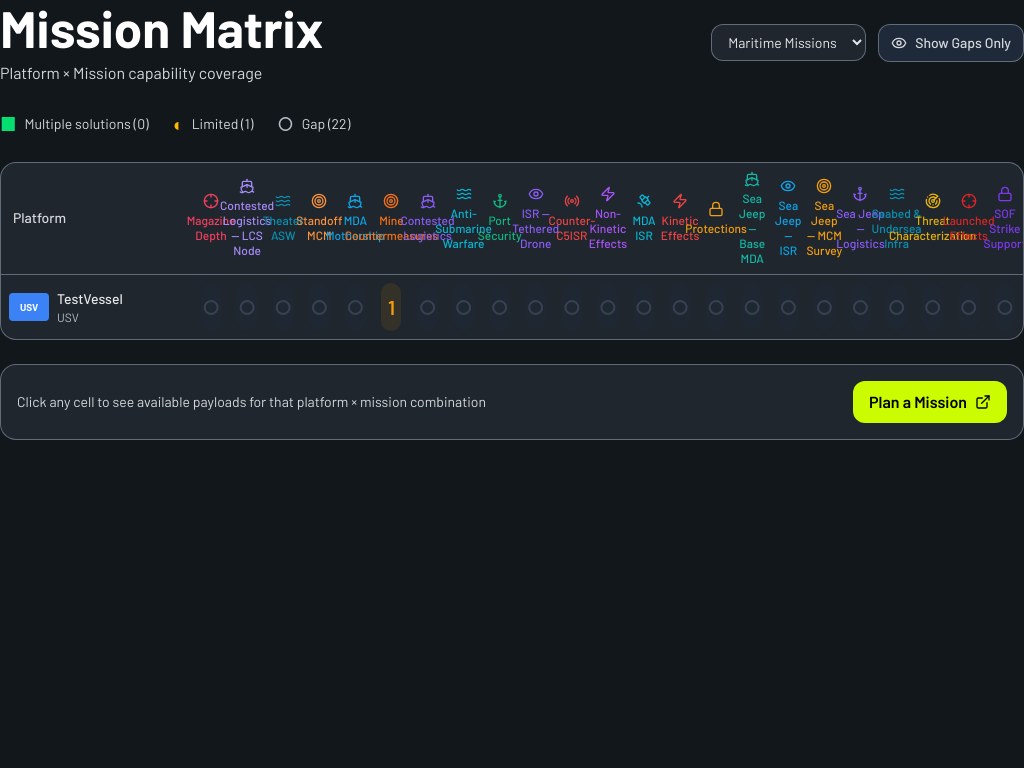
Test case: MissionMatrix › opens the cell detail modal with compatible payloads on cell click
Note: The TestVessel × MCM cell has 1 compatible payload
What coordinates should you click on to do the following:
click the button titled "1 payloads for TestVessel × Mine Countermeasures"
I would click on:
 (391, 307)
Its box is [381,283,402,331].
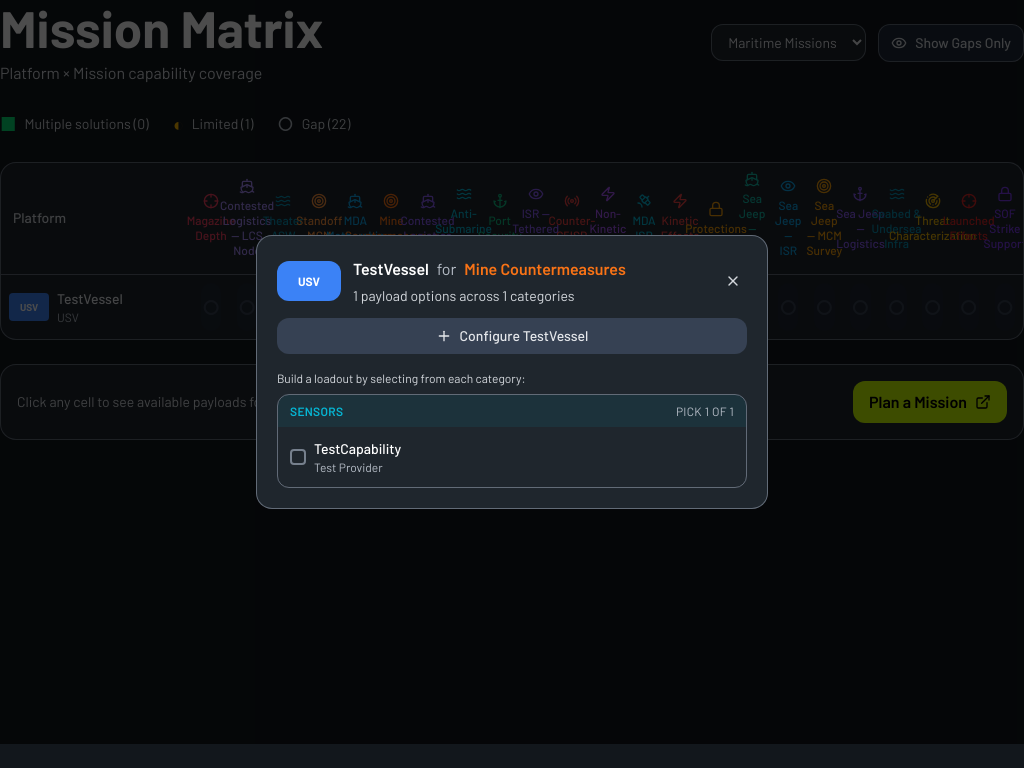
Result: the text "TestCapability" is shown at [314,439,401,459]
Result: the text "Test Provider" is shown at [314,460,383,474]
Result: the text "1 payload options across 1 categories" is shown at [353,287,575,304]
